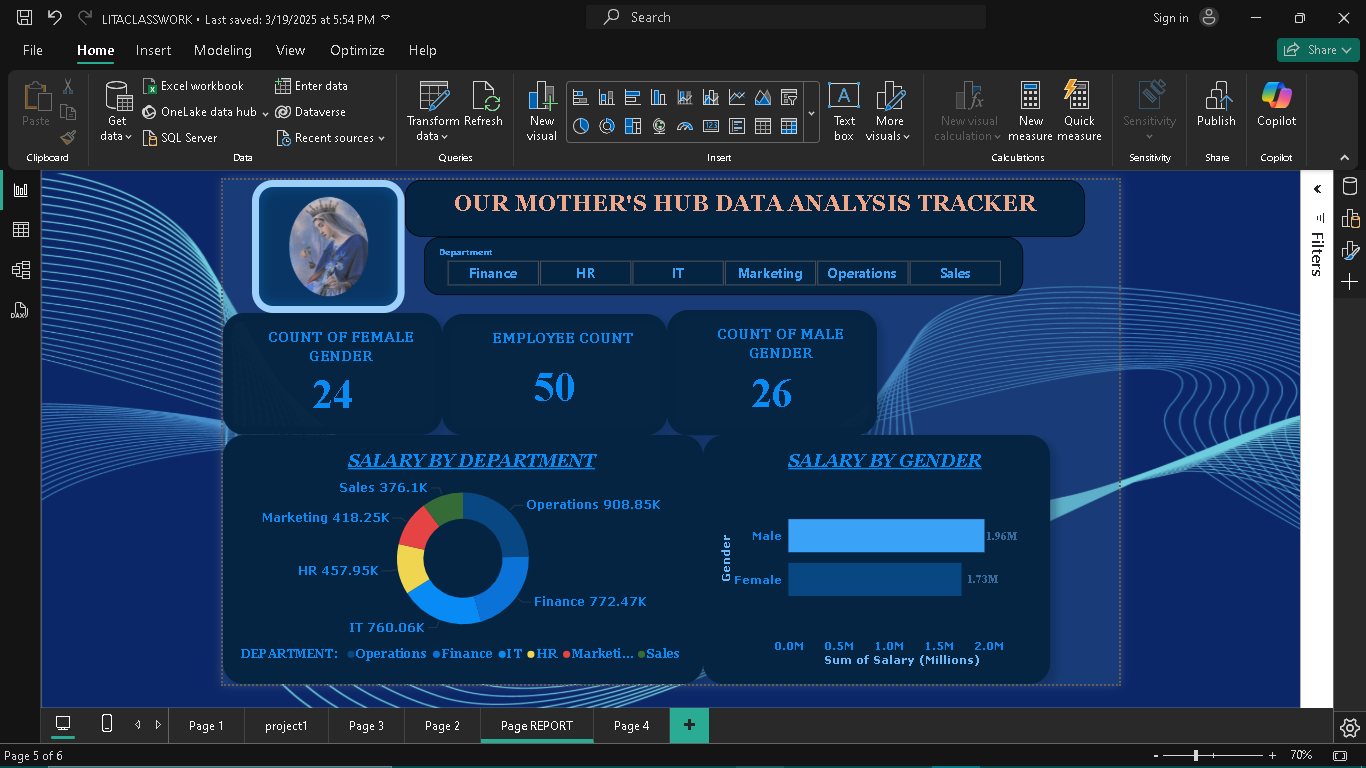

What the dashboard file says about the page in this screenshot:
{"tool":"powerbi","page":{"name":"Page REPORT","canvas":[1280,720],"ordinal":0},"visuals":[{"type":"card","title":"EMPLOYEE COUNT","fields":{"Values":["HR_Employee_Data.Measure 2"]},"box":[312.9,190,321.4,174.3],"z":0},{"type":"card","title":" COUNT OF MALE GENDER","fields":{"Values":["Count(HR_Employee_Data)"]},"box":[634.3,185.7,300,178.6],"z":1000},{"type":"card","title":" COUNT OF FEMALE GENDER","fields":{"Values":["Count(HR_Employee_Data)"]},"box":[0,190,312.9,174.3],"z":2000},{"type":"textbox","box":[260,0,971.4,81.4],"z":3000},{"type":"image","box":[41.7,0,218.3,190],"z":4000},{"type":"donutChart","title":"SALARY BY DEPARTMENT","fields":{"Y":["Sum(HR_Employee_Data.Salary)"],"Category":["HR_Employee_Data.Department"]},"box":[0,364.3,685.7,355.7],"z":5000},{"type":"clusteredBarChart","title":"SALARY BY GENDER","fields":{"Y":["Sum(HR_Employee_Data.Salary)"],"Category":["HR_Employee_Data.Gender"]},"box":[685.7,364.3,495.7,355.7],"z":6000},{"type":"slicer","fields":{"Values":["HR_Employee_Data.Department"]},"box":[287.1,81.4,855.7,82.9],"z":7000}]}

Visuals, with their boxes on the page's 1280x720 design canvas (x1, y1, x2, y2). These are canvas units, not pixel positions in the 1366x768 screenshot, which may show the page scaled, cropped or inside an application window:
"EMPLOYEE COUNT" card: Rect(313, 190, 634, 364)
" COUNT OF MALE GENDER" card: Rect(634, 186, 934, 364)
" COUNT OF FEMALE GENDER" card: Rect(0, 190, 313, 364)
textbox: Rect(260, 0, 1231, 81)
image: Rect(42, 0, 260, 190)
"SALARY BY DEPARTMENT" donutChart: Rect(0, 364, 686, 720)
"SALARY BY GENDER" clusteredBarChart: Rect(686, 364, 1181, 720)
slicer - HR_Employee_Data.Department: Rect(287, 81, 1143, 164)
